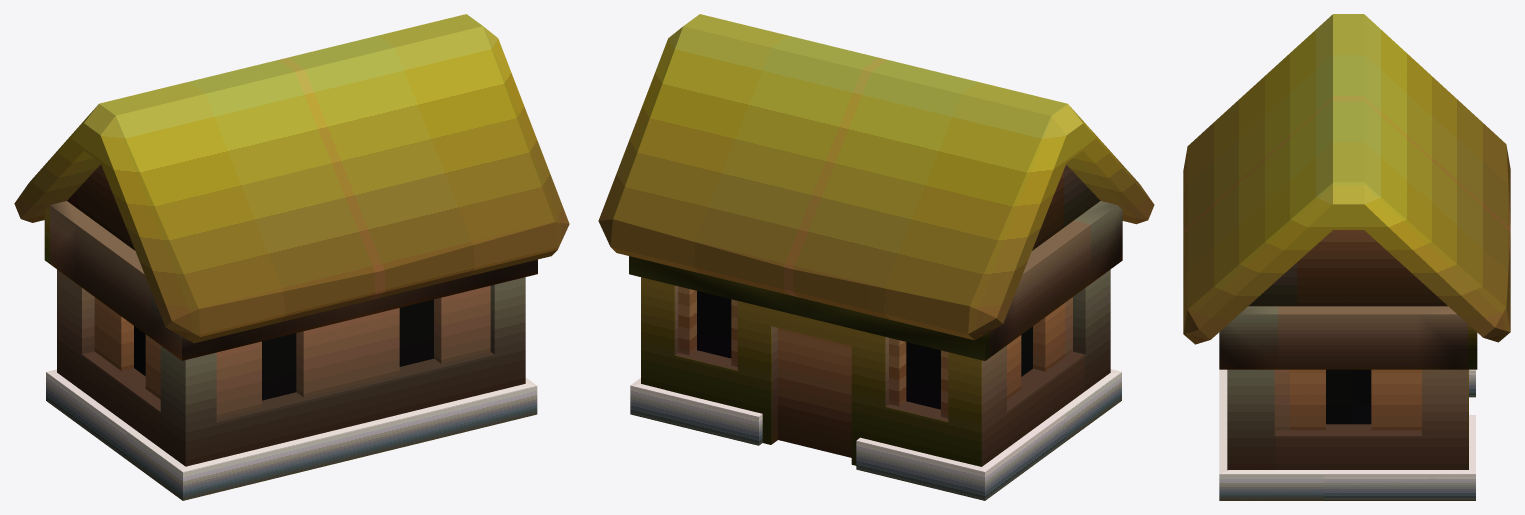
Rendered from simple_low_poly_farm_house_lvl2.glb.
The picture shows the model from 3 angles, left to right: view 1: azimuth 30°, elevation 25°; view 2: azimuth 150°, elevation 25°; view 3: azimuth 270°, elevation 25°; orthographic projection. The views are drawn at different scales.
Visible parts, largest first — view 1: farm_house_lvl2_Material #25_0; view 2: farm_house_lvl2_Material #25_0; view 3: farm_house_lvl2_Material #25_0.
Boxes of the visible parts, x1,y1,x2,y2 form: farm_house_lvl2_Material #25_0: [14, 14, 569, 500]; farm_house_lvl2_Material #25_0: [598, 14, 1154, 500]; farm_house_lvl2_Material #25_0: [1183, 14, 1510, 500].
Size of the model in its own units: 3.94 by 3.25 by 3.
1 material, 1 textured.
